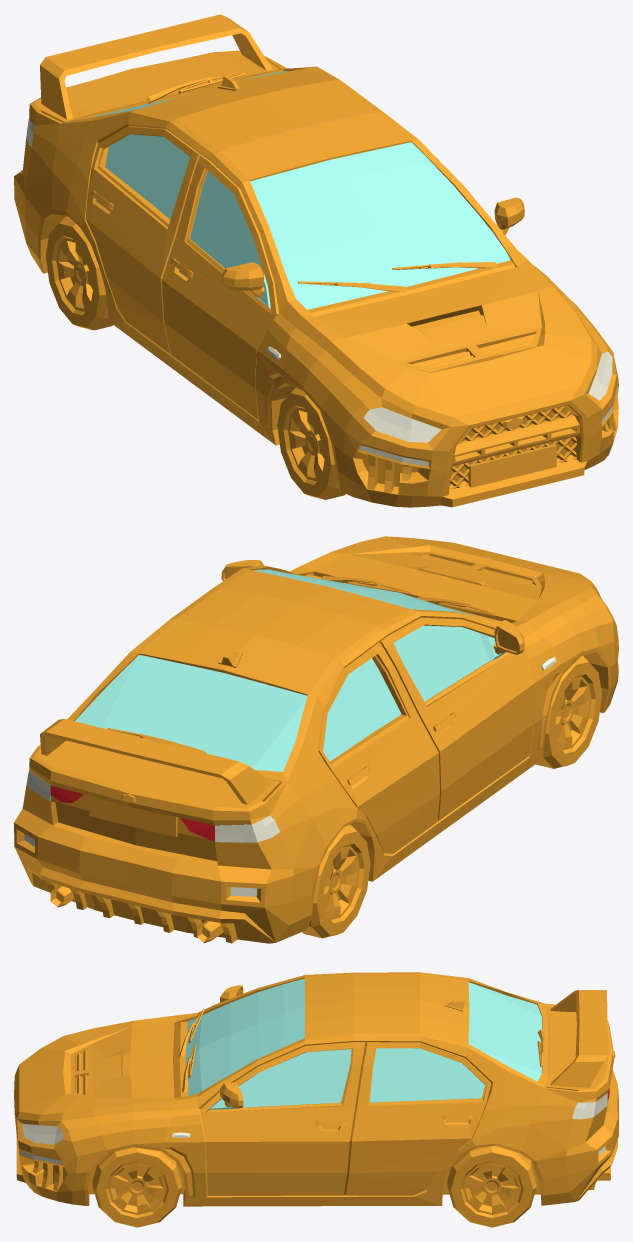
The model's file is SM_Car_Sport_Modern.fbx.
3 views of the same model, one above another, from view 1: azimuth 30°, elevation 25°; view 2: azimuth 150°, elevation 25°; view 3: azimuth 270°, elevation 25° (orthographic). The views are drawn at different scales.
Visible parts, largest first — view 1: car-sport-modern-base, car-sport-modern-door-rfr, car-sport-modern-door-rba, car-sport-modern-trunk, car-sport-modern-wheel-rba, car-sport-modern-wheel-rfr, car-sport-modern-door-lfr; view 2: car-sport-modern-base, car-sport-modern-trunk, car-sport-modern-door-rfr, car-sport-modern-door-rba, car-sport-modern-wheel-rba, car-sport-modern-wheel-rfr; view 3: car-sport-modern-base, car-sport-modern-door-lfr, car-sport-modern-door-lba, car-sport-modern-trunk, car-sport-modern-wheel-lba, car-sport-modern-wheel-lfr.
Boxes of the visible parts, x1=… form: car-sport-modern-base: x1=14, y1=56, x2=618, y2=507; car-sport-modern-door-rfr: x1=162, y1=155, x2=278, y2=419; car-sport-modern-door-rba: x1=85, y1=126, x2=201, y2=353; car-sport-modern-trunk: x1=29, y1=14, x2=279, y2=125; car-sport-modern-wheel-rba: x1=46, y1=216, x2=112, y2=330; car-sport-modern-wheel-rfr: x1=277, y1=387, x2=345, y2=499; car-sport-modern-door-lfr: x1=451, y1=173, x2=524, y2=248; car-sport-modern-base: x1=14, y1=536, x2=618, y2=943; car-sport-modern-trunk: x1=29, y1=719, x2=280, y2=861; car-sport-modern-door-rfr: x1=380, y1=617, x2=533, y2=820; car-sport-modern-door-rba: x1=318, y1=642, x2=439, y2=853; car-sport-modern-wheel-rba: x1=302, y1=824, x2=370, y2=938; car-sport-modern-wheel-rfr: x1=535, y1=655, x2=602, y2=768; car-sport-modern-base: x1=14, y1=972, x2=618, y2=1206; car-sport-modern-door-lfr: x1=200, y1=1042, x2=365, y2=1195; car-sport-modern-door-lba: x1=344, y1=1042, x2=491, y2=1195; car-sport-modern-trunk: x1=546, y1=990, x2=615, y2=1103; car-sport-modern-wheel-lba: x1=447, y1=1145, x2=536, y2=1227; car-sport-modern-wheel-lfr: x1=92, y1=1147, x2=182, y2=1227.
Bounding box in the file's own units: 2.23 × 1.65 × 5.05.
